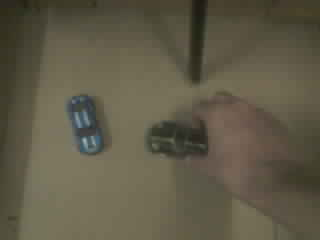Car: (67, 95, 103, 154), (147, 121, 207, 155)
